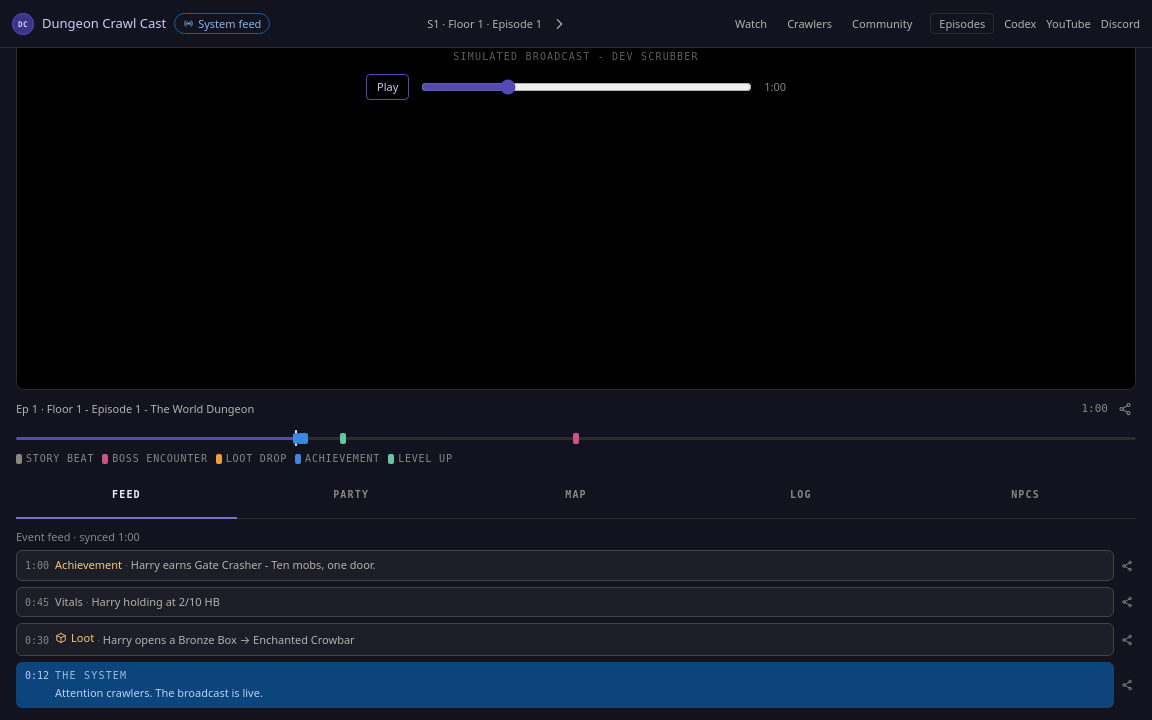
Test: EpisodePage on a phone › shows the broadcast log open, with no toggle of its own
(page scrolled)
Click the tab "Log" at (801, 496), box [690,474,911,518]
(page scrolled)
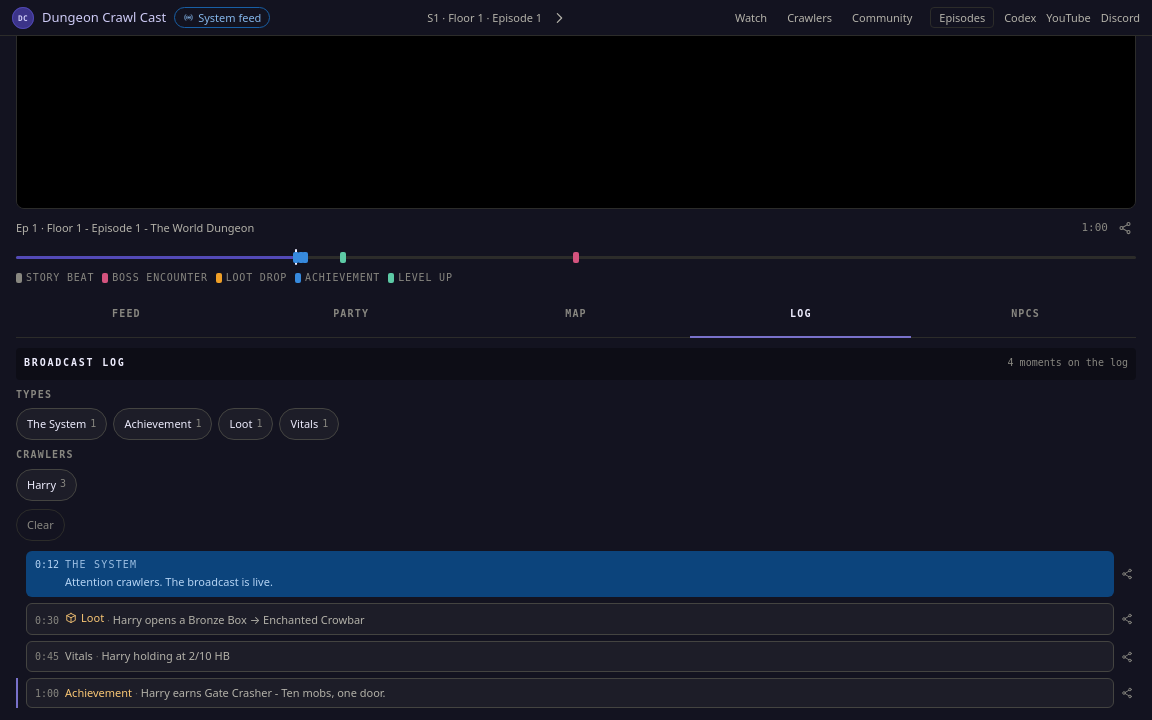
Check: the list with test id "log-list" is shown, box [16,550,1136,708]
